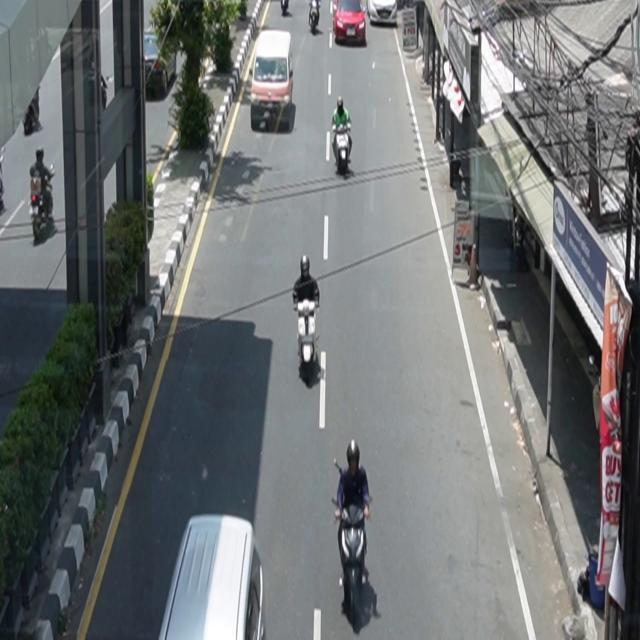car: (159, 515, 267, 640), (251, 30, 295, 133)
